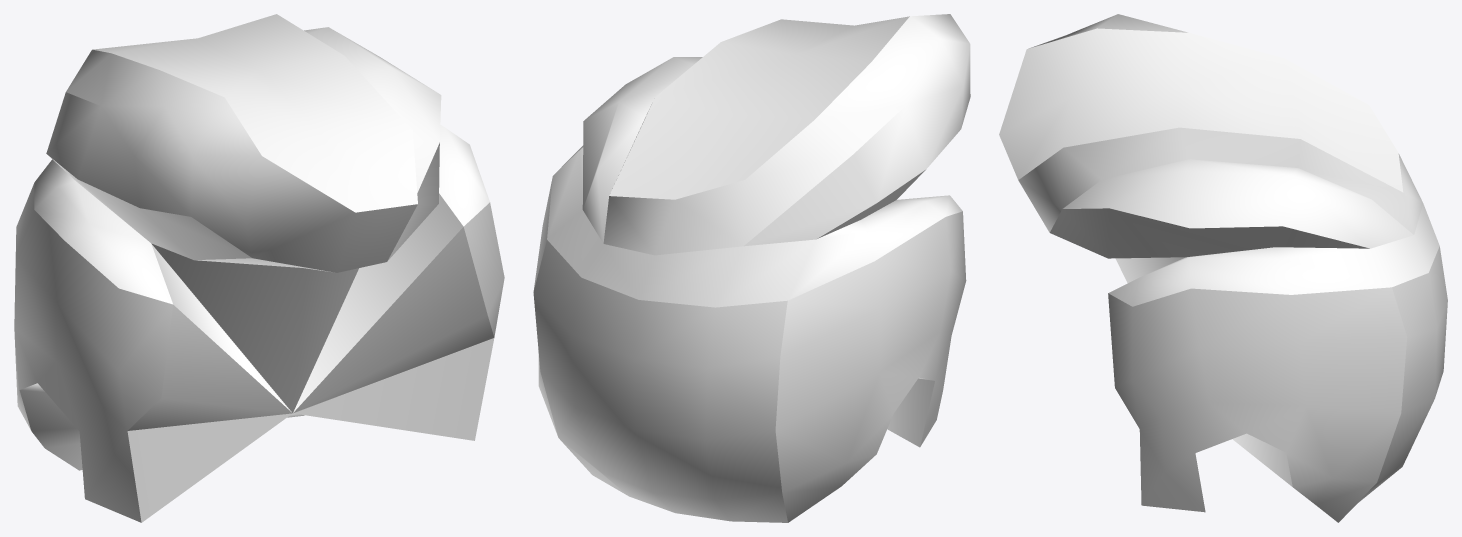
File: Male_Hairs_03.fbx
The picture shows the model from 3 angles, left to right: view 1: azimuth 30°, elevation 25°; view 2: azimuth 150°, elevation 25°; view 3: azimuth 270°, elevation 25°; orthographic projection. The views are drawn at different scales.
Parts seen in each view (by area): view 1: Male_Hairs_03; view 2: Male_Hairs_03; view 3: Male_Hairs_03.
Part boxes in pixels (left/top/right/bottom): Male_Hairs_03: left=14, top=14, right=504, bottom=522; Male_Hairs_03: left=533, top=14, right=970, bottom=522; Male_Hairs_03: left=999, top=14, right=1447, bottom=522.
Size of the model in its own units: 58.17 by 63.26 by 63.4.
